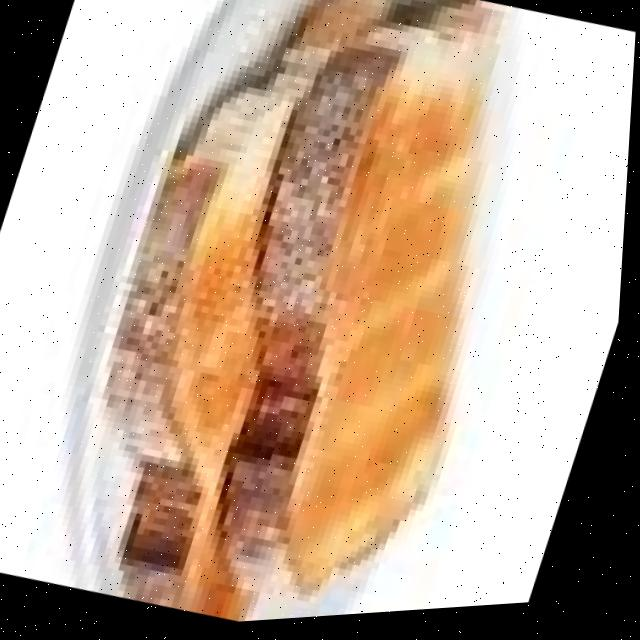Bread: (230, 56, 482, 599), (114, 45, 339, 589)
